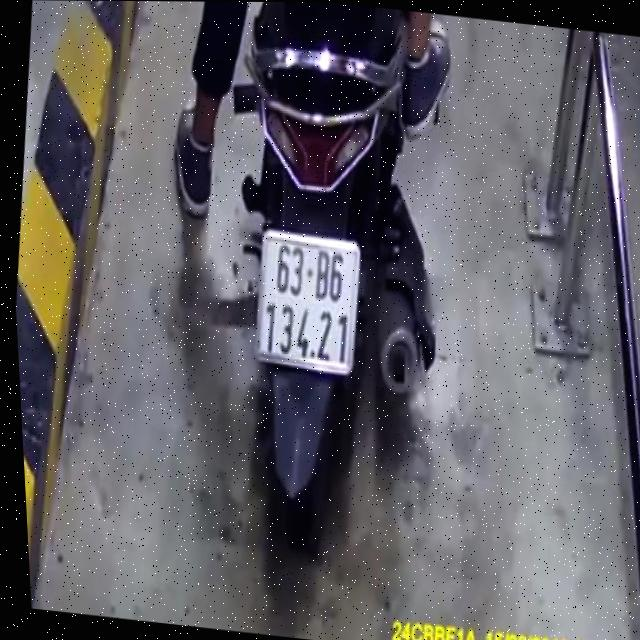motorcycle: (187, 1, 484, 567)
plate: (239, 219, 373, 379)
